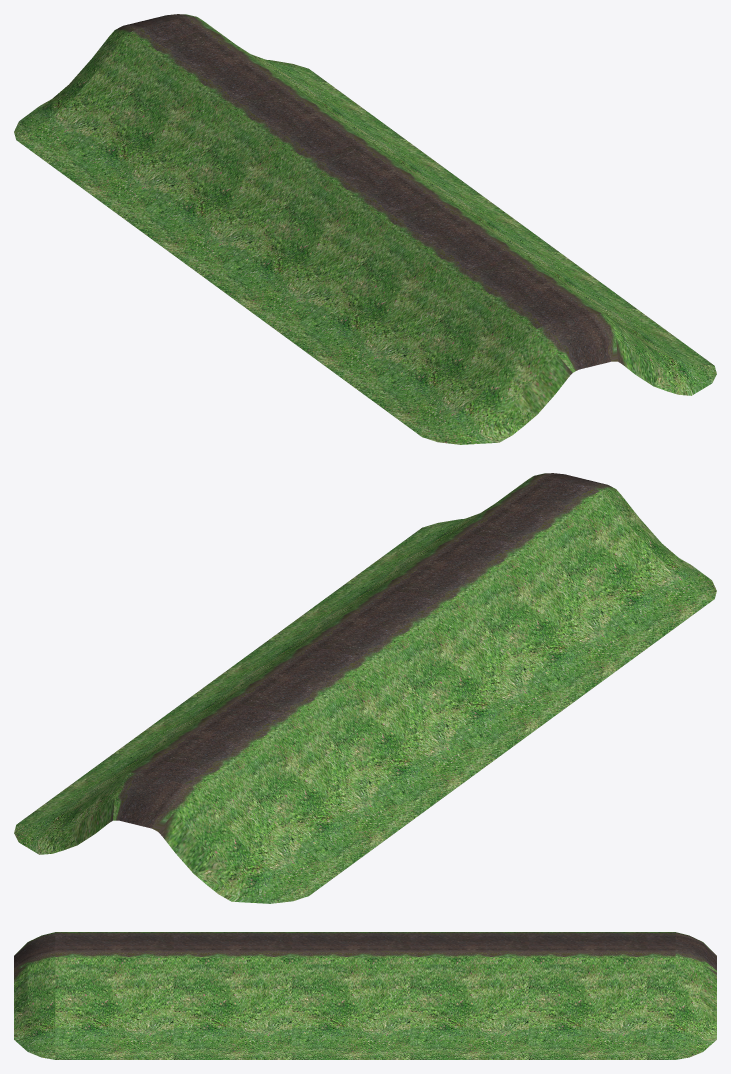
Rendered from 1nasip_90_TSM.gltf.
3 renders of one model, top to bottom at view 1: azimuth 30°, elevation 25°; view 2: azimuth 150°, elevation 25°; view 3: azimuth 270°, elevation 25°, orthographic. The views are drawn at different scales.
Bounding box in the file's own units: 37.47 × 10.02 × 102.
Materials: 1 (1 with a texture image).
